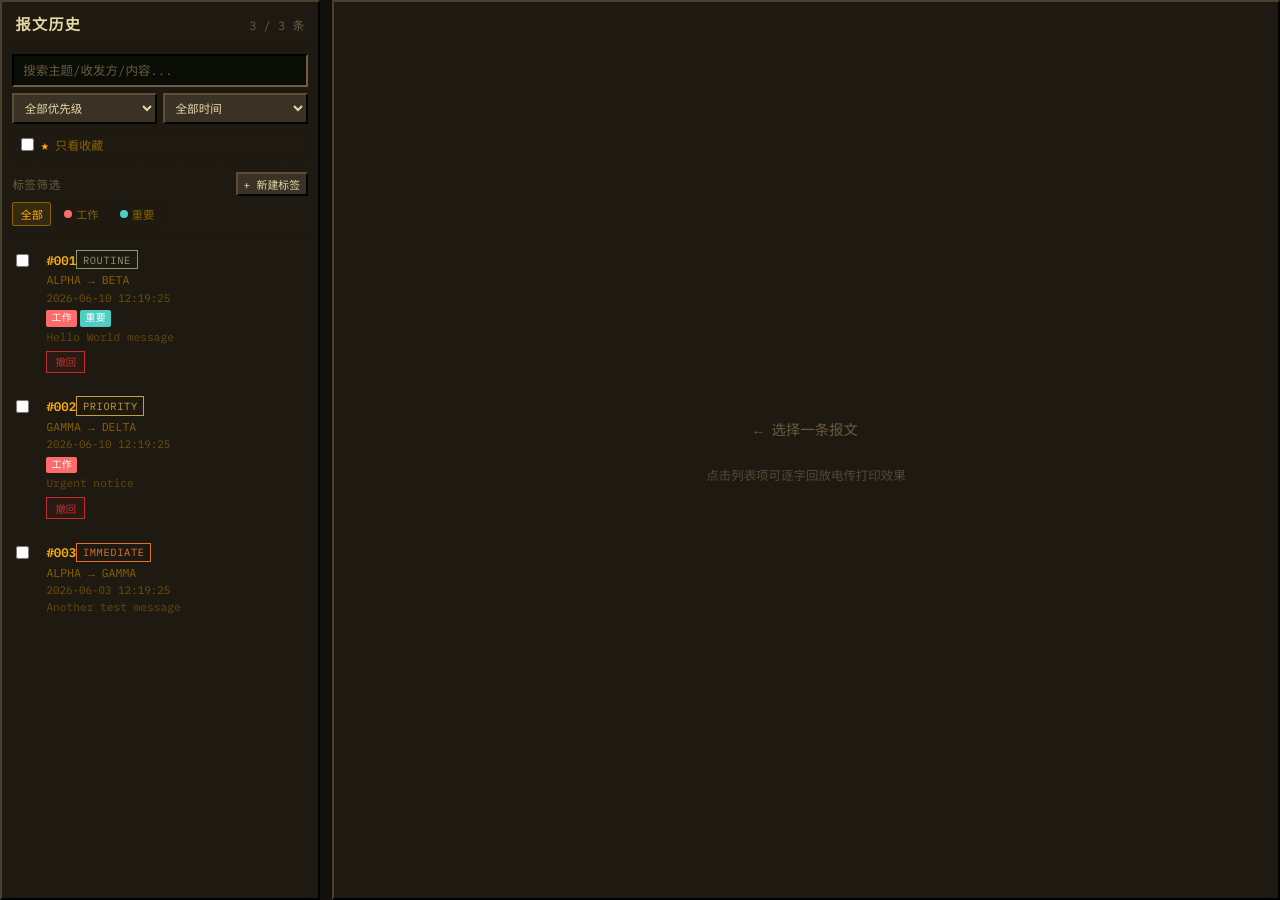
HistoryPage › 搜索筛选功能 › 应该按优先级筛选
Select "PRIORITY (优先)" in the 1st dropdown at (85, 108), box [12, 93, 157, 124]
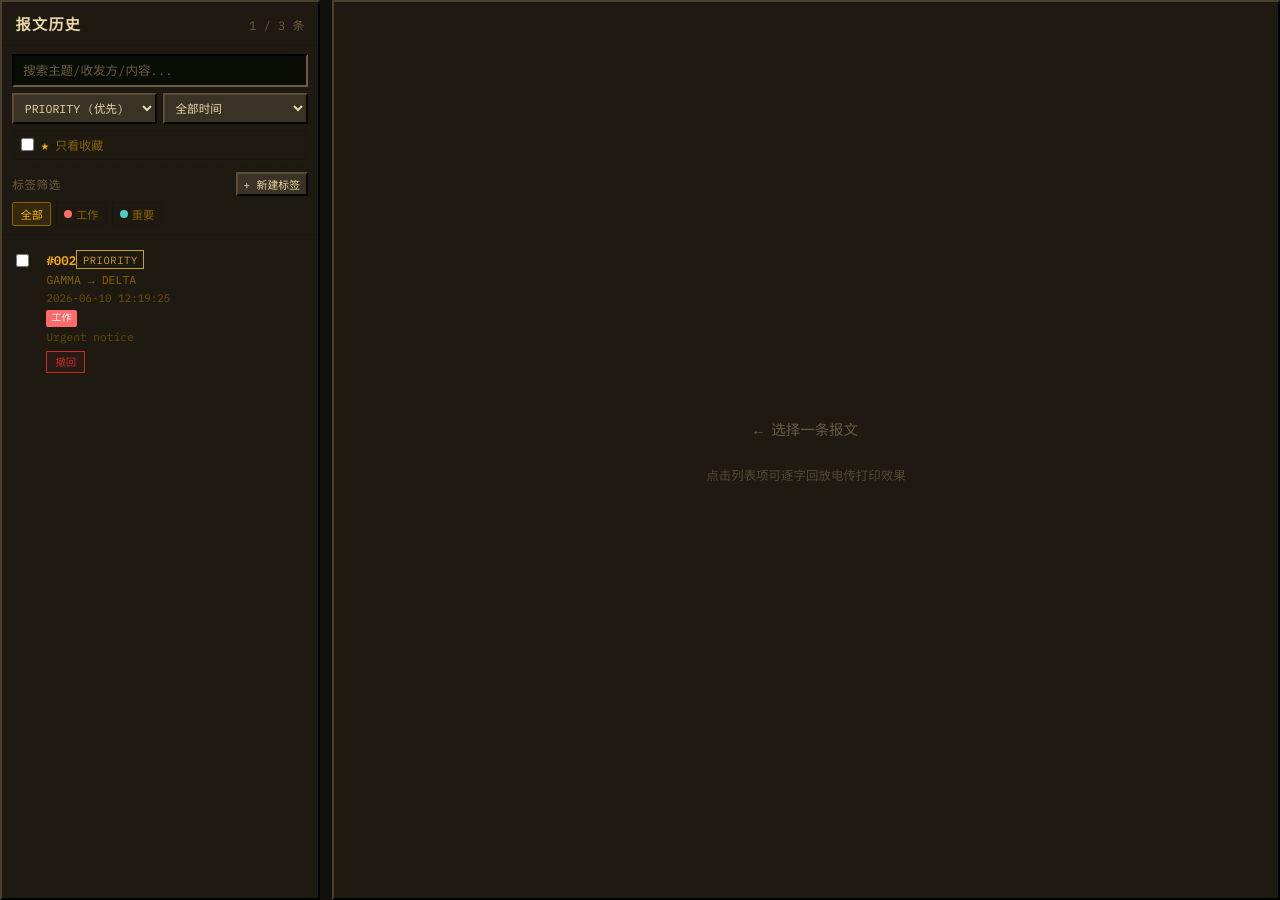
Now the text "1 / 3 条" is shown, box [249, 16, 304, 33]
